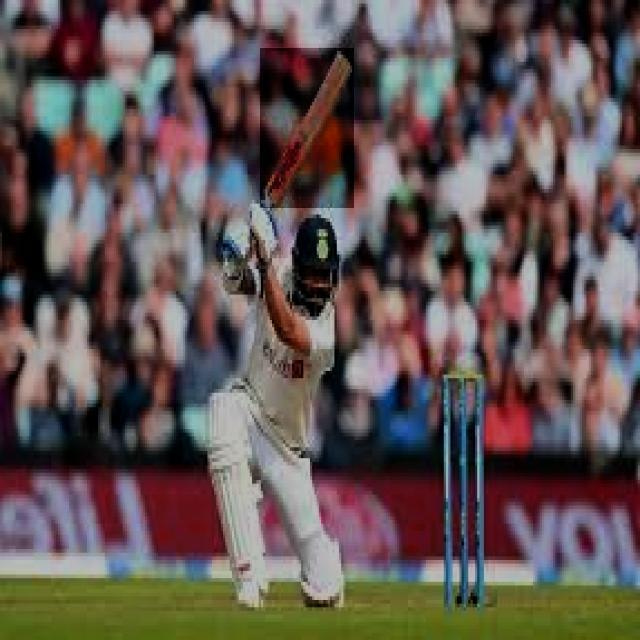bat: (265, 46, 354, 207)
toe: (334, 46, 356, 77)
